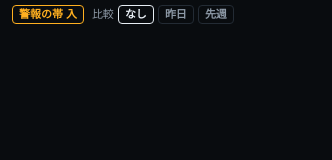
Test: GraphViewControls（見出しの切り替え） › 比較を選ぶと、端末に保存される。選んだボタンは aria-pressed になる
Click the button with aria-label "比較: 昨日": (176, 14) [158,5,194,24]
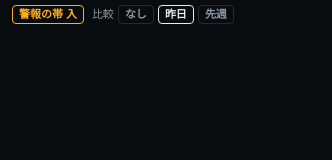
Check: the button with aria-label "比較: 昨日" is pressed, box [158,5,194,24]
